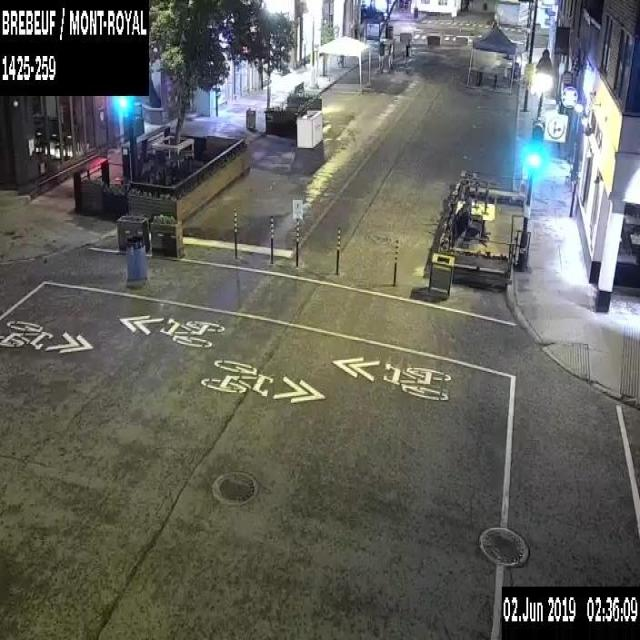pedestrian: (376, 36, 384, 72), (387, 37, 393, 72), (403, 41, 410, 66)
vehicle: (360, 3, 383, 21)
